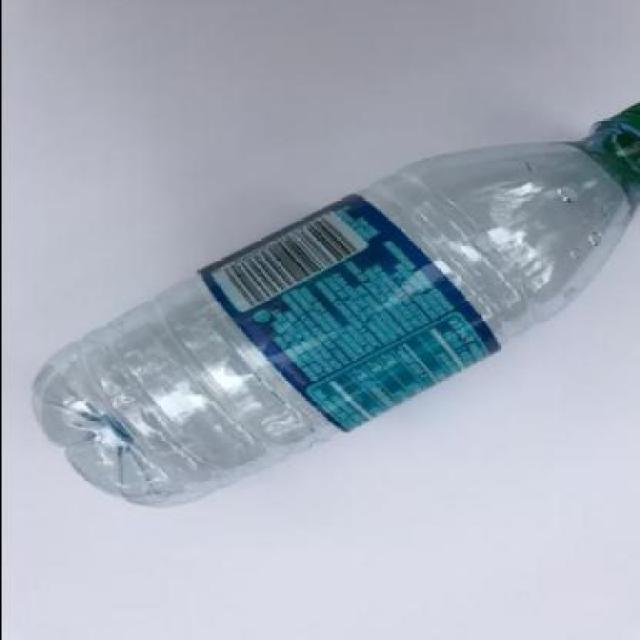PLASTIC: (37, 99, 638, 512), (198, 194, 500, 435)
